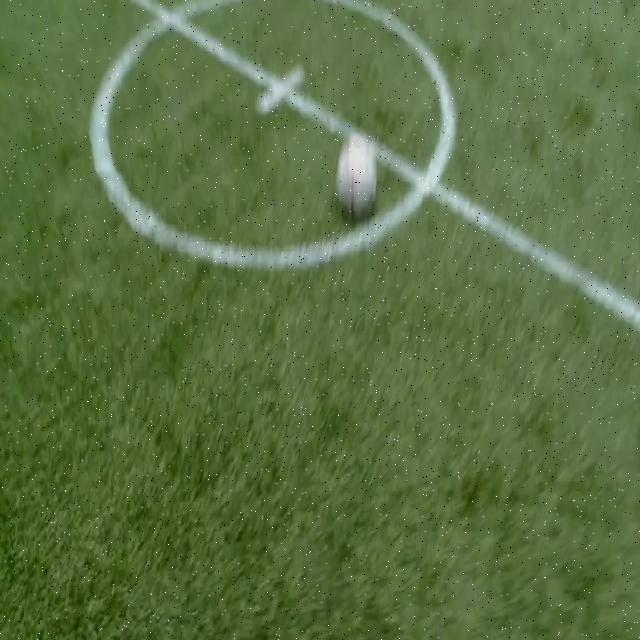ball: (336, 133, 376, 216)
